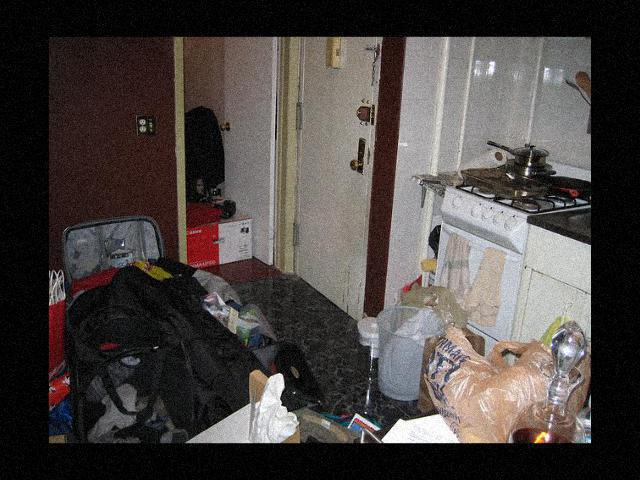Bote de Basura: (380, 304, 445, 408)
Lavaplatos: (538, 189, 591, 276)
Otro Obstaculo: (142, 256, 275, 426), (77, 283, 200, 442), (195, 261, 324, 402)
